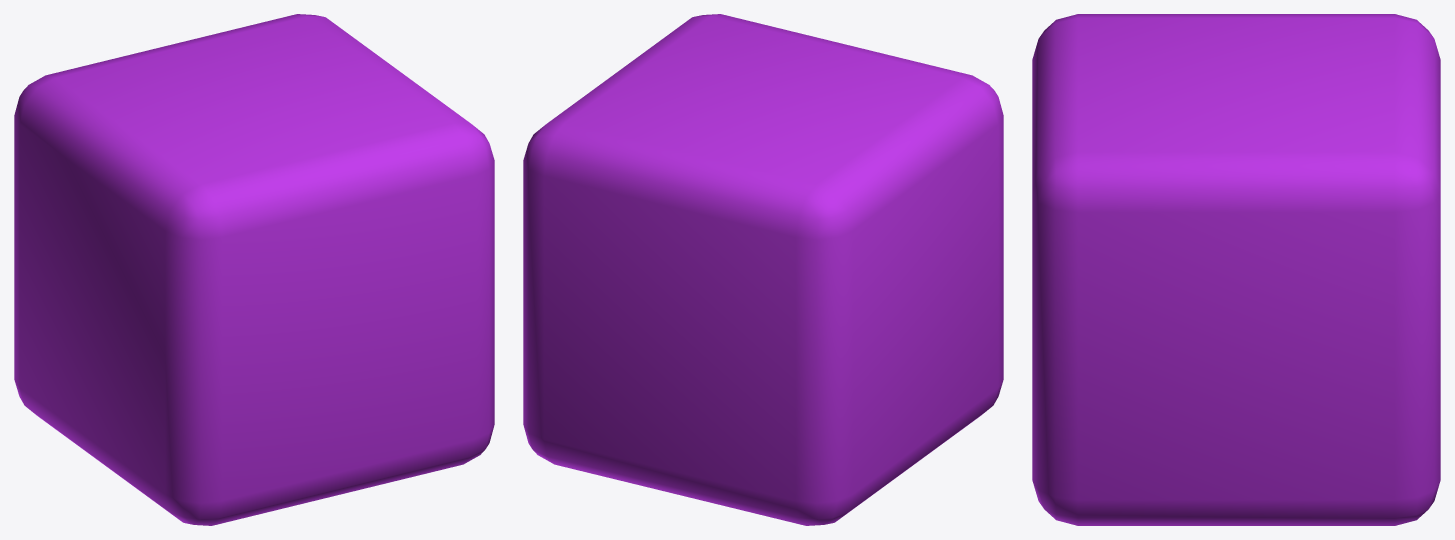
Rendered from pinkcube.fbx.
3 views of the same model, side by side, from view 1: azimuth 30°, elevation 25°; view 2: azimuth 150°, elevation 25°; view 3: azimuth 270°, elevation 25° (orthographic). The views are drawn at different scales.
Parts seen in each view (by area): view 1: Cube; view 2: Cube; view 3: Cube.
Boxes of the visible parts, box(x1,y1,x2,y2) form: Cube: box(14, 14, 494, 525); Cube: box(523, 14, 1003, 525); Cube: box(1032, 14, 1440, 525).
Size of the model in its own units: 159 by 159 by 159.
